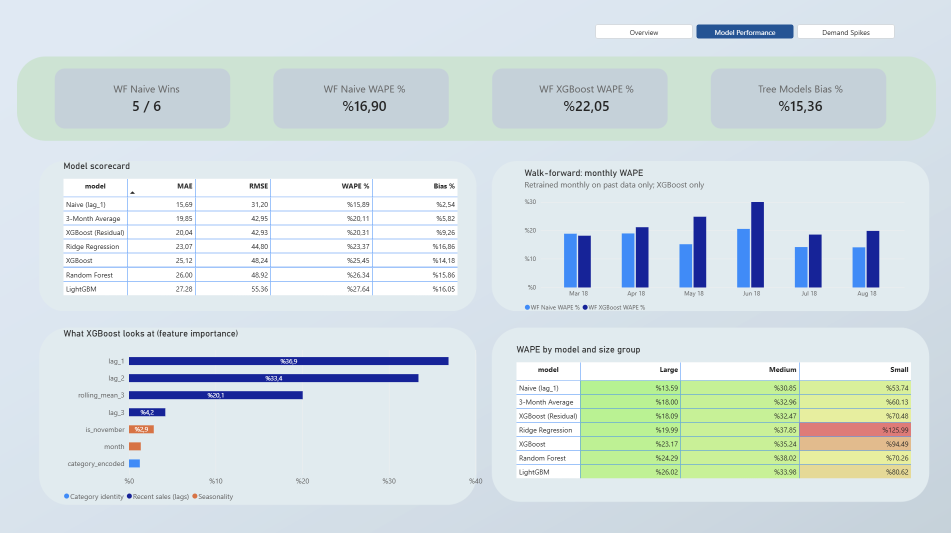

Layout of this report page (visuals, bound fields, positions):
{"tool":"powerbi","page":{"name":"Model Performance","canvas":[1920,1080],"ordinal":1},"visuals":[{"type":"cardVisual","fields":{"Data":["_Measures.WF Naive Wins"]},"box":[160,150,280,107.5],"z":0},{"type":"cardVisual","fields":{"Data":["_Measures.WF Naive WAPE %"]},"box":[595,150,280,107.5],"z":1000},{"type":"cardVisual","fields":{"Data":["_Measures.WF XGBoost WAPE %"]},"box":[1040,150,280,107.5],"z":2000},{"type":"cardVisual","fields":{"Data":["_Measures.Tree Models Bias %"]},"box":[1467.5,150,280,107.5],"z":3000},{"type":"pivotTable","title":"Model scorecard","fields":{"Rows":["forecast_results.model"],"Values":["_Measures.MAE","_Measures.RMSE","_Measures.WAPE %","_Measures.Bias %"]},"box":[118,314,822,334],"z":4000},{"type":"clusteredColumnChart","title":"Walk-forward: monthly WAPE","fields":{"Category":["DimMonth.Month Label"],"Y":["_Measures.WF Naive WAPE %","_Measures.WF XGBoost WAPE %"]},"box":[1040,328,792,322],"z":5000},{"type":"barChart","title":"What XGBoost looks at (feature importance)","fields":{"Category":["feature_importance.feature"],"Series":["feature_importance.feature_group"],"Y":["Sum(feature_importance.importance)"]},"box":[118.6,648.3,870.1,380.6],"z":6000},{"type":"pivotTable","title":"WAPE by model and size group","fields":{"Columns":["forecast_results.category_group"],"Rows":["forecast_results.model"],"Values":["_Measures.WAPE %"]},"box":[1024,680,822,334],"z":7000},{"type":"pageNavigator","box":[1198,56,600,28],"z":7001}]}

Visuals, with their boxes in screenshot pixels (x1, y1, x2, y2), scaled from the page's 1920x1080 canvas onto the 951x533 screenshot:
cardVisual - _Measures.WF Naive Wins: bbox=(79, 74, 218, 127)
cardVisual - _Measures.WF Naive WAPE %: bbox=(295, 74, 433, 127)
cardVisual - _Measures.WF XGBoost WAPE %: bbox=(515, 74, 654, 127)
cardVisual - _Measures.Tree Models Bias %: bbox=(727, 74, 866, 127)
"Model scorecard" pivotTable: bbox=(58, 155, 466, 320)
"Walk-forward: monthly WAPE" clusteredColumnChart: bbox=(515, 162, 907, 321)
"What XGBoost looks at (feature importance)" barChart: bbox=(59, 320, 490, 508)
"WAPE by model and size group" pivotTable: bbox=(507, 336, 914, 500)
pageNavigator: bbox=(593, 28, 891, 41)
